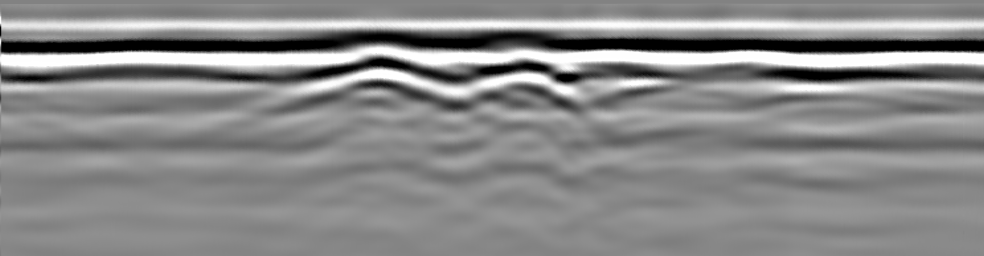pipe: (472, 32, 567, 80), (327, 35, 429, 74)
